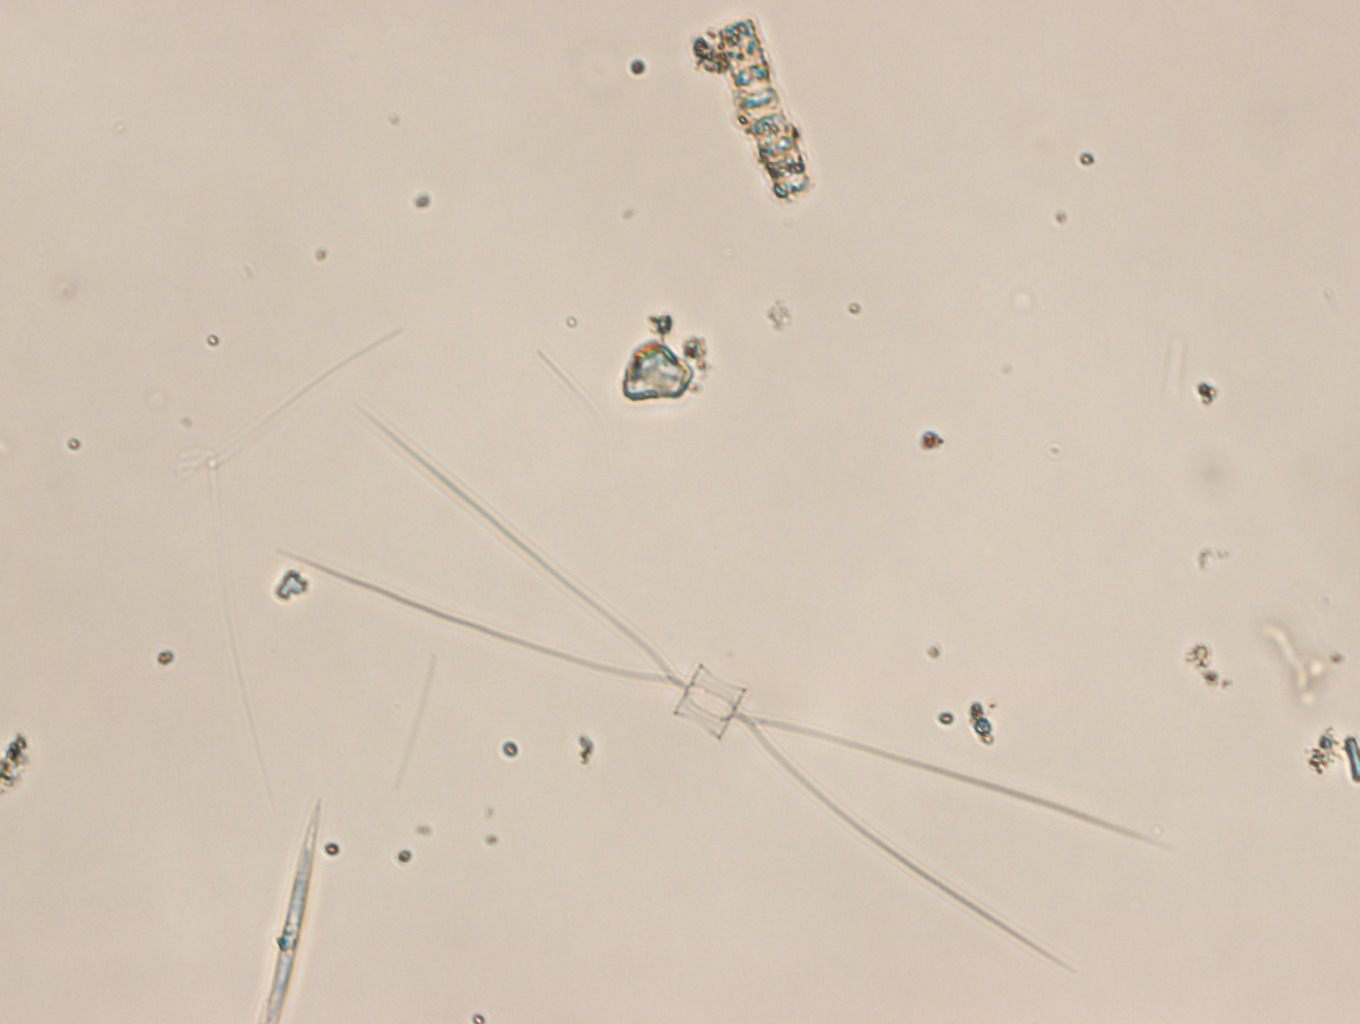chaetoceros: (269, 396, 1170, 989)
navicula: (264, 799, 323, 1024)
